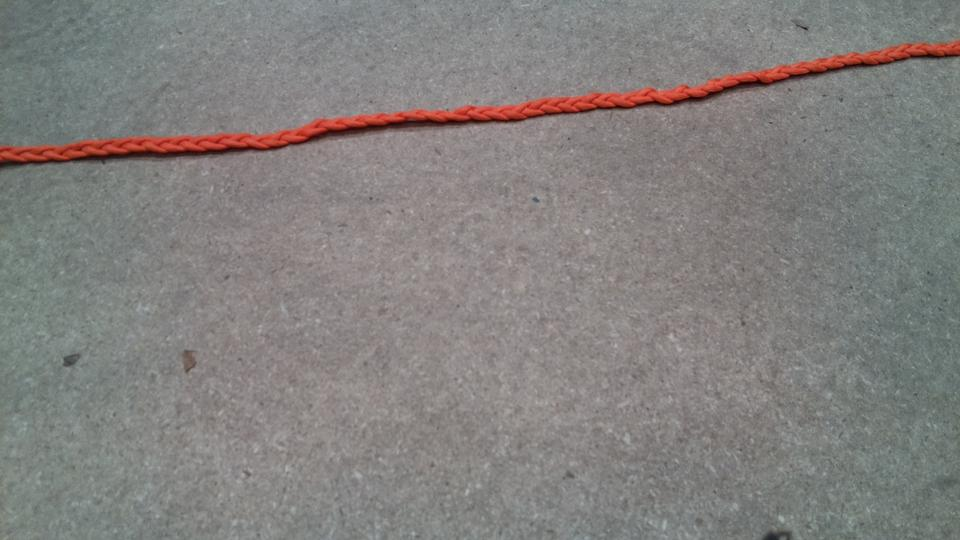rope: (1, 37, 958, 171)
